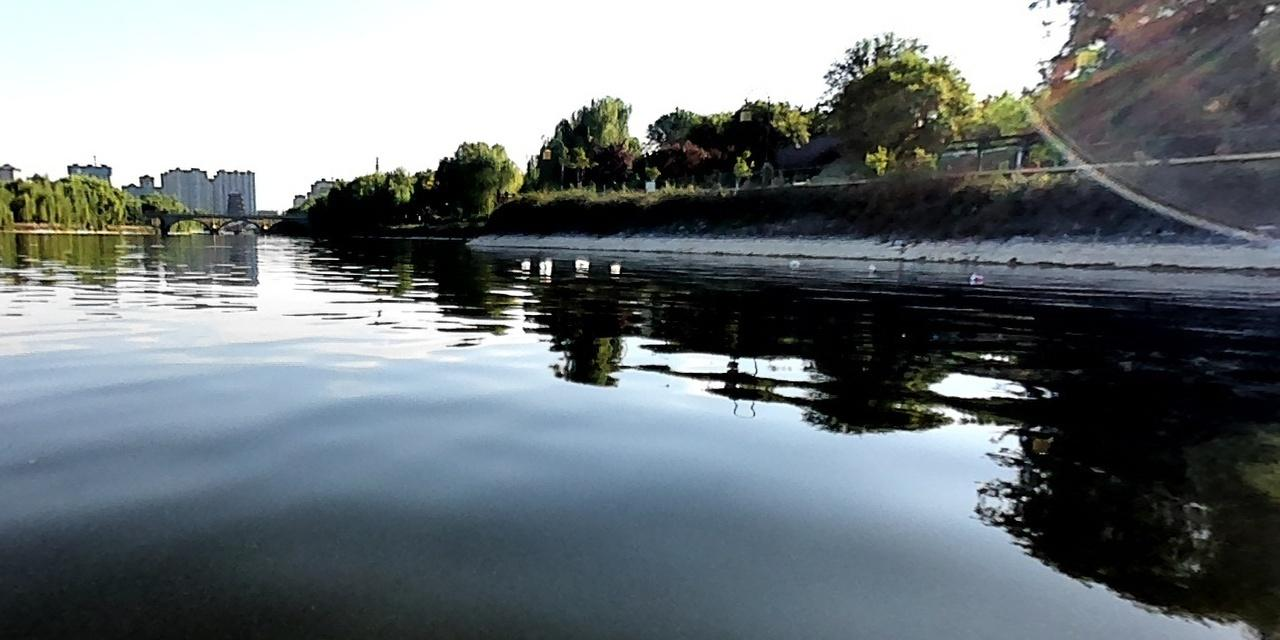bottle: (967, 269, 986, 282), (572, 256, 592, 267), (606, 261, 623, 271), (537, 258, 552, 267), (518, 258, 528, 266)
